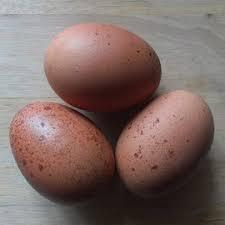egg: (109, 87, 214, 198), (38, 22, 166, 110), (7, 99, 115, 200)
